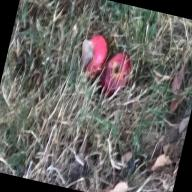Apples: (98, 50, 134, 98), (78, 32, 112, 80)
